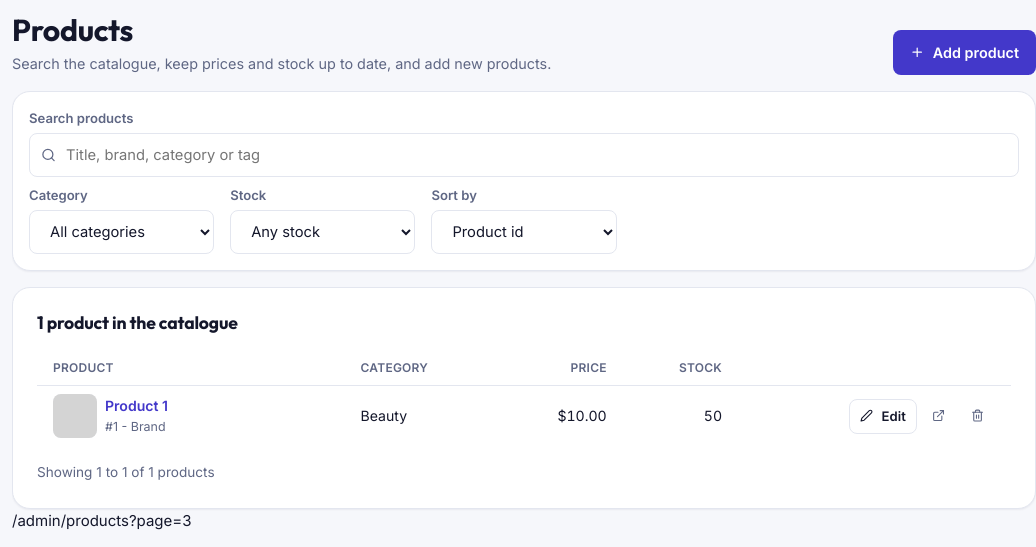
it: AdminProducts › goes back to the first page when a filter changes
expect the link "Product 1" is shown: met, box [105,395,168,417]
Select "Beauty (5)" in the dropdown labelled "Category". click: (122, 232)
box: [29,210,214,254]
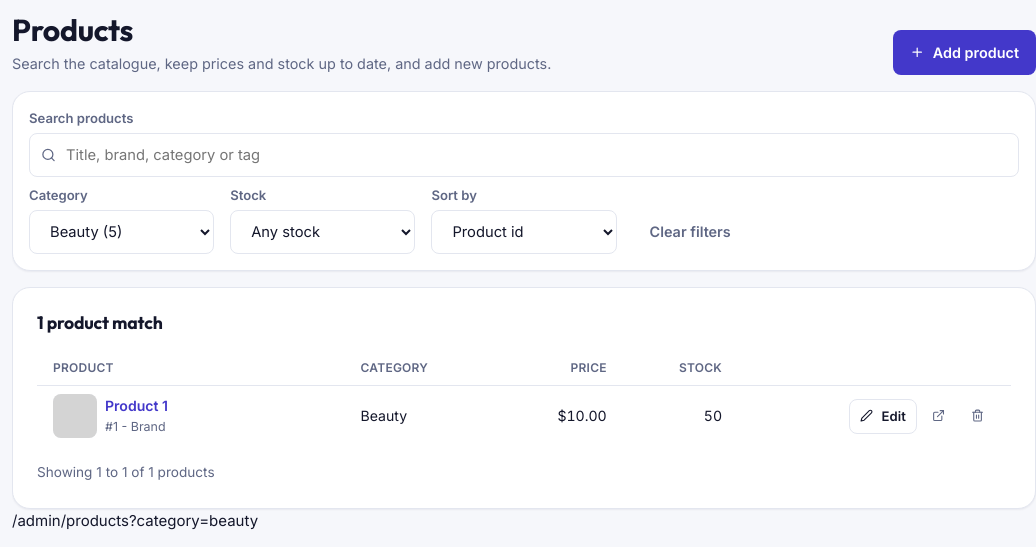
expect the text with test id "location" reads "/admin/products?category=beauty": met, box [12,511,258,530]
